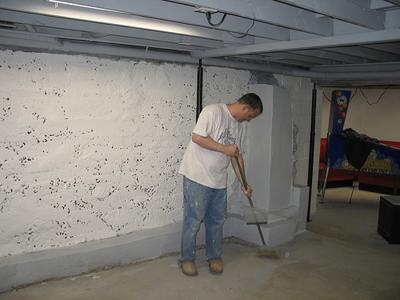person: (178, 93, 266, 278)
